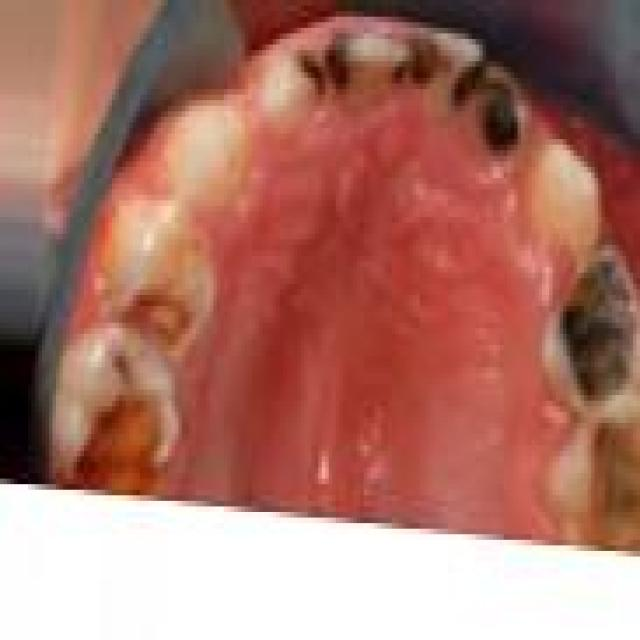caries: (545, 241, 640, 426), (68, 356, 176, 489), (563, 412, 640, 540), (114, 262, 200, 367), (472, 69, 532, 177), (327, 30, 408, 103), (414, 27, 477, 107), (272, 38, 324, 118)
